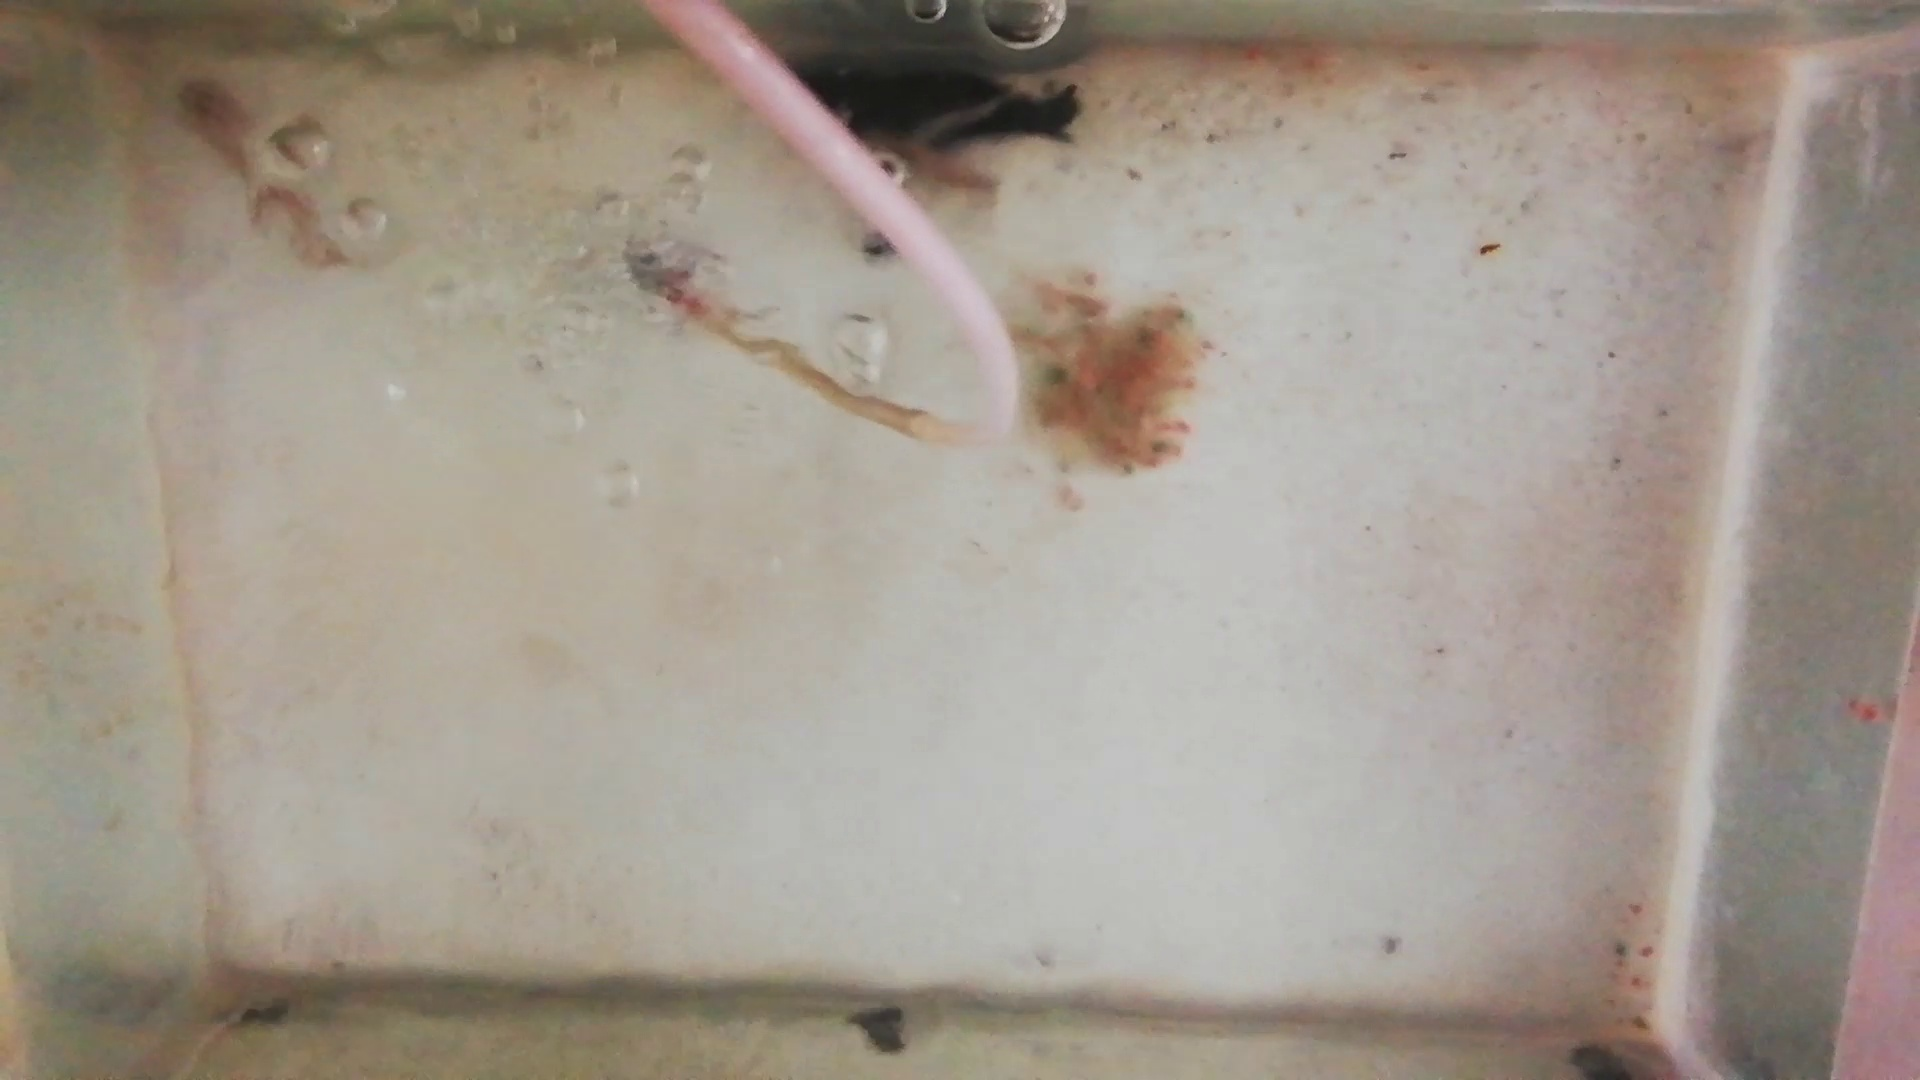fish: (170, 79, 334, 257), (869, 135, 1004, 196)
